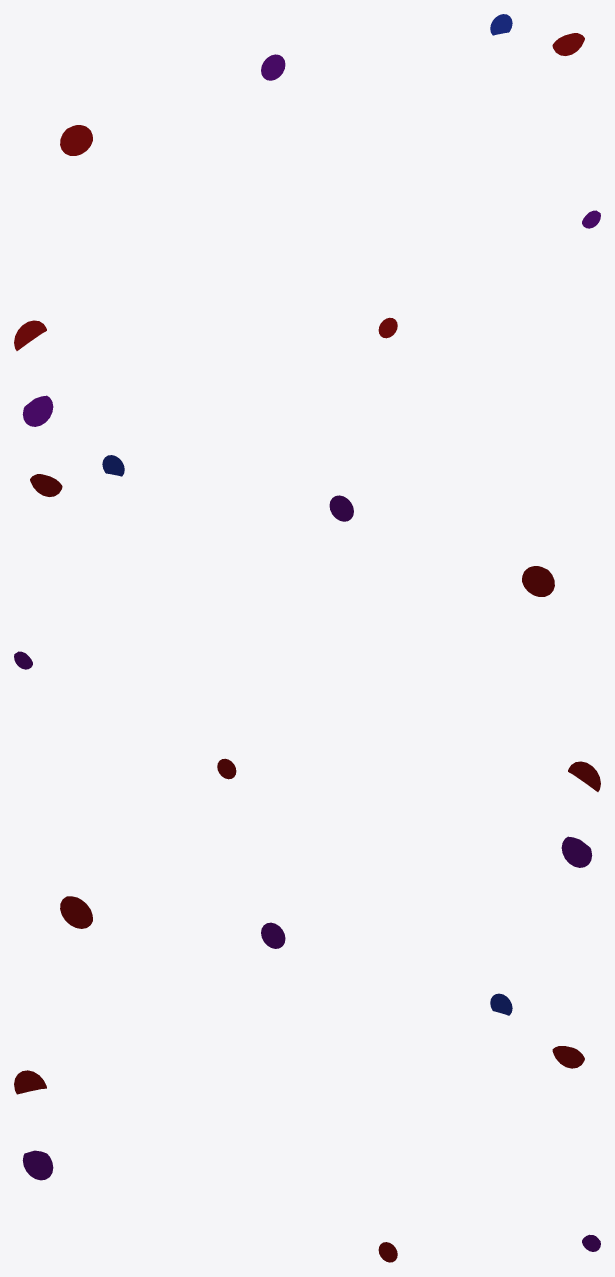
File: Dralthi_Bubbles.fbx
3 renders of one model, top to bottom at view 1: azimuth 30°, elevation 25°; view 2: azimuth 150°, elevation 25°; view 3: azimuth 330°, elevation 25°, orthographic.
Parts seen in each view (by area): view 1: CockpitBubbles; view 2: CockpitBubbles; view 3: CockpitBubbles.
Part boxes in pixels (left/top/right/bottom): CockpitBubbles: left=14, top=14, right=600, bottom=426; CockpitBubbles: left=14, top=455, right=600, bottom=867; CockpitBubbles: left=14, top=896, right=600, bottom=1262.
Bounding box in the file's own units: 34.85 × 17.81 × 1.23e-06.
